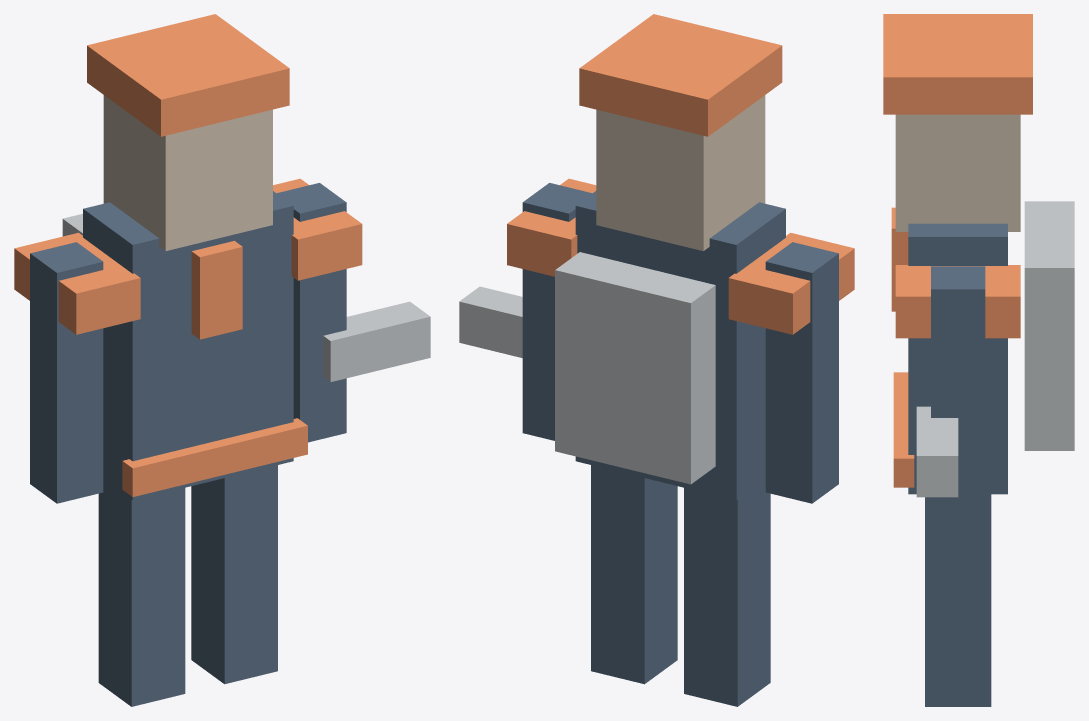
File: 20_lio_voidrill_watcher_near_crater.glb
3 renders of one model, left to right at view 1: azimuth 30°, elevation 25°; view 2: azimuth 150°, elevation 25°; view 3: azimuth 270°, elevation 25°, orthographic.
Parts seen in each view (by area): view 1: Lio Voidrill, Watcher near Crater; view 2: Lio Voidrill, Watcher near Crater; view 3: Lio Voidrill, Watcher near Crater.
Part boxes in pixels (x1,y1,x2,y2): Lio Voidrill, Watcher near Crater: [14, 14, 430, 706]; Lio Voidrill, Watcher near Crater: [459, 14, 854, 706]; Lio Voidrill, Watcher near Crater: [883, 14, 1074, 706].
Size of the model in its own units: 1.03 by 1.66 by 0.46.
